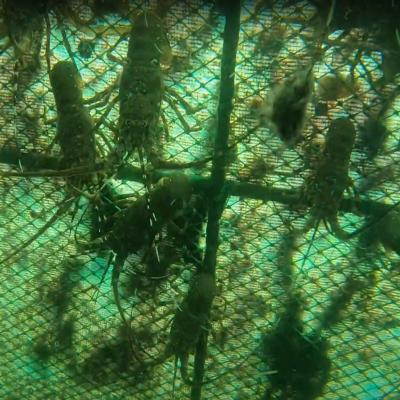lobster: (116, 12, 163, 161), (112, 182, 195, 262), (44, 65, 97, 190), (312, 116, 354, 238), (169, 273, 216, 366)
